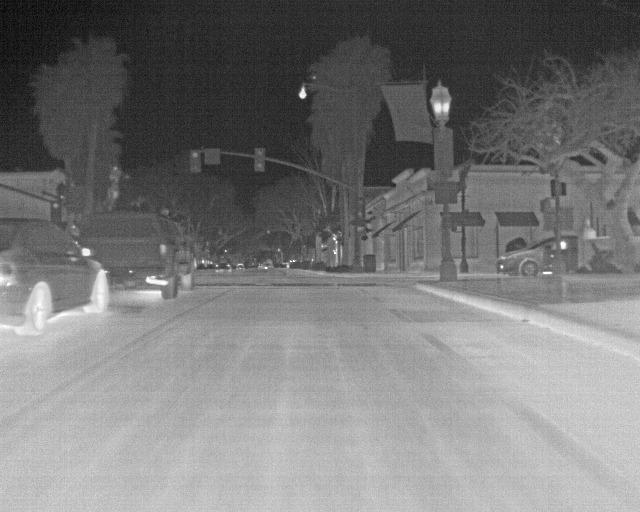car: (0, 217, 110, 335), (77, 211, 196, 300), (497, 236, 578, 277), (215, 258, 232, 273), (235, 263, 245, 270), (262, 264, 269, 269)
light: (433, 127, 453, 177), (53, 202, 61, 223), (255, 150, 263, 170), (192, 151, 199, 171), (540, 200, 551, 211), (357, 200, 363, 217), (357, 226, 364, 232), (303, 239, 307, 248), (218, 226, 222, 234), (267, 225, 270, 234)
sign: (435, 181, 457, 204), (204, 148, 220, 165), (551, 180, 566, 196), (349, 220, 365, 226)
